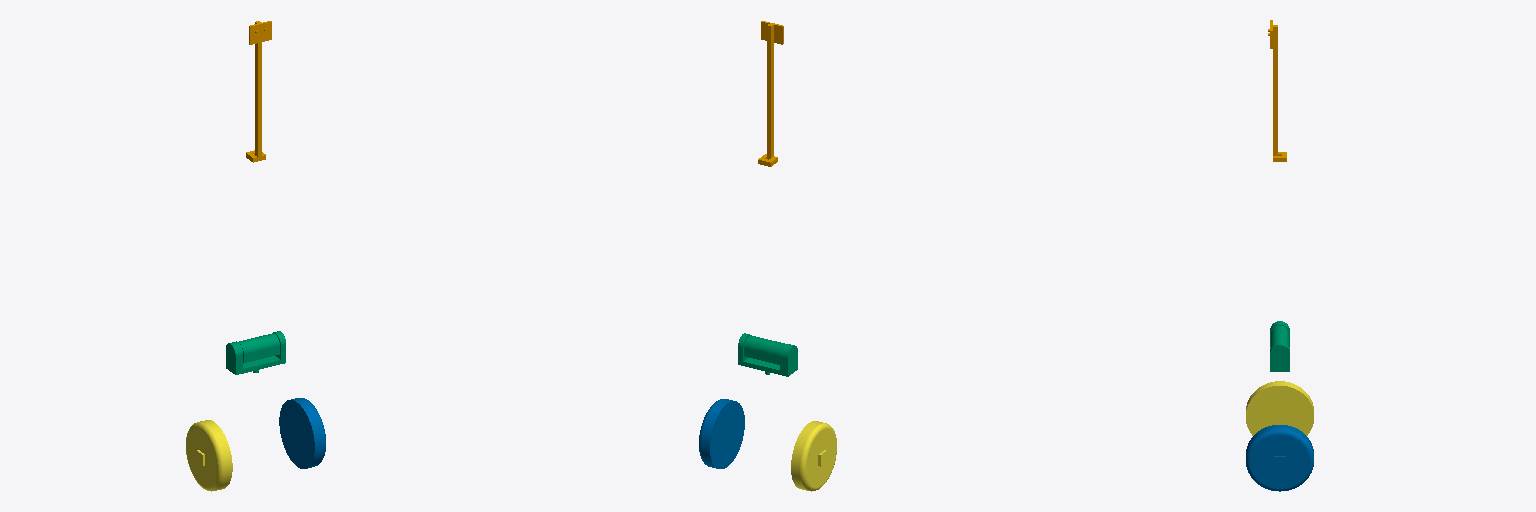
The robot description file, URDF, robot "Rollbody2.1_test4":
<?xml version="1.0" ?>
<robot name="Rollbody2.1_test4">
  <joint name="Rollbody2.1_test4__joint_wheelsR" type="revolute">
    <parent link="Rollbody2.1_test4__link_base"/>
    <child link="Rollbody2.1_test4__wheelR"/>
    <origin xyz="-0.40372  0       0.05" rpy="0 0 0"/>
    <axis xyz="-1  0  0"/>
    <limit lower="0.0" upper="6.283185307179586" effort="0.0" velocity="0.0"/>
  </joint>
  <joint name="Rollbody2.1_test4__joint_wheelL" type="revolute">
    <parent link="Rollbody2.1_test4__link_base"/>
    <child link="Rollbody2.1_test4__wheelL"/>
    <origin xyz="0.40372 0      0.05" rpy="0 0 0"/>
    <axis xyz="1 0 0"/>
    <limit lower="0.0" upper="6.283185307179586" effort="0.0" velocity="0.0"/>
  </joint>
  <joint name="Rollbody2.1_test4__joint_loomo_head" type="revolute">
    <parent link="Rollbody2.1_test4__link_base"/>
    <child link="Rollbody2.1_test4__link_loomo_head"/>
    <origin xyz="-1.2200e-03 -2.0000e-05  7.6541e-01" rpy="0 0 0"/>
    <axis xyz="0 0 1"/>
    <limit lower="0.0" upper="6.283185307179586" effort="0.0" velocity="0.0"/>
  </joint>
  <joint name="Rollbody2.1_test4__joint_heightAdjust" type="prismatic">
    <parent link="Rollbody2.1_test4__link_base"/>
    <child link="Rollbody2.1_test4__link_heightAdjust"/>
    <origin xyz="0      -0.03     2.22371" rpy="0 0 0"/>
    <axis xyz="0 0 1"/>
    <limit lower="-0.25" upper="0.25" effort="0.0" velocity="0.0"/>
  </joint>
  <link name="Rollbody2.1_test4__link_heightAdjust">
    <inertial>
      <mass value="2.9809715023306786"/>
      <origin xyz="0 0 0" rpy="0 0 0"/>
      <inertia ixx="4.941734819431478" ixy="-1.6443664081913173e-15" ixz="5.589880077394383e-14" iyy="4.9407120272463905" iyz="0.08122179996364012" izz="0.002546465257724052"/>
    </inertial>
    <collision name="Rollbody2.1_test4__link_heightAdjust_collision">
      <origin xyz="0      0.01   -0.9545" rpy="0 0 0"/>
      <geometry>
        <mesh filename="package://PATHTOMESHES/meshes/CAD/link_heightAdjust.stl" scale="0.001 0.001 0.001"/>
      </geometry>
    </collision>
    <visual name="Rollbody2.1_test4__link_heightAdjust_visual">
      <origin xyz="0      0.01   -0.9545" rpy="0 0 0"/>
      <geometry>
        <mesh filename="package://PATHTOMESHES/meshes/CAD/link_heightAdjust.stl" scale="0.001 0.001 0.001"/>
      </geometry>
    </visual>
  </link>
  <link name="Rollbody2.1_test4__link_base">
    <inertial>
      <mass value="86.1777122467262"/>
      <origin xyz="0 0 0" rpy="0 0 0"/>
      <inertia ixx="6.443231636530824" ixy="0.0006993266805764146" ixz="0.002440526189443658" iyy="6.388071337224328" iyz="-0.0721928133558915" izz="1.802654637421469"/>
    </inertial>
    <collision name="Rollbody2.1_test4__link_base_collision">
      <origin xyz="-0.00079  0.00574  0.15327" rpy="0 0 0"/>
      <geometry>
        <mesh filename="package://PATHTOMESHES/meshes/CAD/link_base.stl" scale="0.001 0.001 0.001"/>
      </geometry>
    </collision>
    <visual name="Rollbody2.1_test4__link_base_visual">
      <origin xyz="-0.00079  0.00574  0.15327" rpy="0 0 0"/>
      <geometry>
        <mesh filename="package://PATHTOMESHES/meshes/CAD/link_base.stl" scale="0.001 0.001 0.001"/>
      </geometry>
    </visual>
  </link>
  <link name="Rollbody2.1_test4__link_loomo_head">
    <inertial>
      <mass value="12.991942687000781"/>
      <origin xyz="0 0 0" rpy="0 0 0"/>
      <inertia ixx="2.388752916509112" ixy="-2.016858278166148e-14" ixz="0.006571408800908258" iyy="2.445335065506726" iyz="9.873591670603139e-05" izz="0.06850544130681294"/>
    </inertial>
    <collision name="Rollbody2.1_test4__link_loomo_head_collision">
      <origin xyz="0       0      -0.33848" rpy="0 0 0"/>
      <geometry>
        <mesh filename="package://PATHTOMESHES/meshes/CAD/link_loomo_head.stl" scale="0.001 0.001 0.001"/>
      </geometry>
    </collision>
    <visual name="Rollbody2.1_test4__link_loomo_head_visual">
      <origin xyz="0       0      -0.33848" rpy="0 0 0"/>
      <geometry>
        <mesh filename="package://PATHTOMESHES/meshes/CAD/link_loomo_head.stl" scale="0.001 0.001 0.001"/>
      </geometry>
    </visual>
  </link>
  <link name="Rollbody2.1_test4__wheelR">
    <inertial>
      <mass value="28.624341980085596"/>
      <origin xyz="0 0 0" rpy="0 0 0"/>
      <inertia ixx="0.29162603877351323" ixy="-9.213120576122778e-11" ixz="0.15509336178078817" iyy="1.5078493950683791" iyz="1.0613919714810214e-11" izz="1.489959218036965"/>
    </inertial>
    <collision name="Rollbody2.1_test4__wheelR_collision">
      <origin xyz="0.187  0    -0.025" rpy="0 0 0"/>
      <geometry>
        <mesh filename="package://PATHTOMESHES/meshes/CAD/wheelR.stl" scale="0.001 0.001 0.001"/>
      </geometry>
    </collision>
    <visual name="Rollbody2.1_test4__wheelR_visual">
      <origin xyz="0.187  0    -0.025" rpy="0 0 0"/>
      <geometry>
        <mesh filename="package://PATHTOMESHES/meshes/CAD/wheelR.stl" scale="0.001 0.001 0.001"/>
      </geometry>
    </visual>
  </link>
  <link name="Rollbody2.1_test4__wheelL">
    <inertial>
      <mass value="28.624341980085244"/>
      <origin xyz="0 0 0" rpy="0 0 0"/>
      <inertia ixx="0.29162604722004715" ixy="-5.801943252828305e-11" ixz="-0.15509336178078814" iyy="1.5078494077381723" iyz="-6.684359397954888e-12" izz="1.4899592138136788"/>
    </inertial>
    <collision name="Rollbody2.1_test4__wheelL_collision">
      <origin xyz="-0.187  0    -0.025" rpy="0 0 0"/>
      <geometry>
        <mesh filename="package://PATHTOMESHES/meshes/CAD/wheelL.stl" scale="0.001 0.001 0.001"/>
      </geometry>
    </collision>
    <visual name="Rollbody2.1_test4__wheelL_visual">
      <origin xyz="-0.187  0    -0.025" rpy="0 0 0"/>
      <geometry>
        <mesh filename="package://PATHTOMESHES/meshes/CAD/wheelL.stl" scale="0.001 0.001 0.001"/>
      </geometry>
    </visual>
  </link>
</robot>

--- Render facts (derived) ---
3 views of the same robot in one strip: view 1: azimuth 30°, elevation 25°; view 2: azimuth 150°, elevation 25°; view 3: azimuth 270°, elevation 25° (orthographic).
Model Rollbody2.1_test4 with 5 links and 4 joints (3 revolute, 1 prismatic), rooted at Rollbody2.1_test4__link_base, posed all joints at 0.
Visible links, largest first — view 1: Rollbody2.1_test4__wheelR, Rollbody2.1_test4__wheelL, Rollbody2.1_test4__link_loomo_head, Rollbody2.1_test4__link_heightAdjust; view 2: Rollbody2.1_test4__wheelR, Rollbody2.1_test4__wheelL, Rollbody2.1_test4__link_loomo_head, Rollbody2.1_test4__link_heightAdjust; view 3: Rollbody2.1_test4__wheelL, Rollbody2.1_test4__wheelR, Rollbody2.1_test4__link_loomo_head, Rollbody2.1_test4__link_heightAdjust.
Boxes of the visible links, x1,y1,x2,y2 form: Rollbody2.1_test4__wheelR: [186, 420, 232, 491]; Rollbody2.1_test4__wheelL: [279, 398, 325, 468]; Rollbody2.1_test4__link_loomo_head: [226, 331, 285, 374]; Rollbody2.1_test4__link_heightAdjust: [246, 21, 271, 162]; Rollbody2.1_test4__wheelR: [791, 421, 836, 491]; Rollbody2.1_test4__wheelL: [699, 399, 744, 468]; Rollbody2.1_test4__link_loomo_head: [738, 333, 797, 376]; Rollbody2.1_test4__link_heightAdjust: [758, 21, 783, 166]; Rollbody2.1_test4__wheelL: [1246, 425, 1313, 491]; Rollbody2.1_test4__wheelR: [1246, 381, 1313, 435]; Rollbody2.1_test4__link_loomo_head: [1270, 321, 1289, 371]; Rollbody2.1_test4__link_heightAdjust: [1268, 20, 1286, 161].
Size in the robot's own frame: 0.514 by 0.28 by 1.98 metres.
4 mesh visuals loaded from 5 distinct referenced files (4 ASCII STL); not drawn: 1 (reference not matched to a file when rendering).
